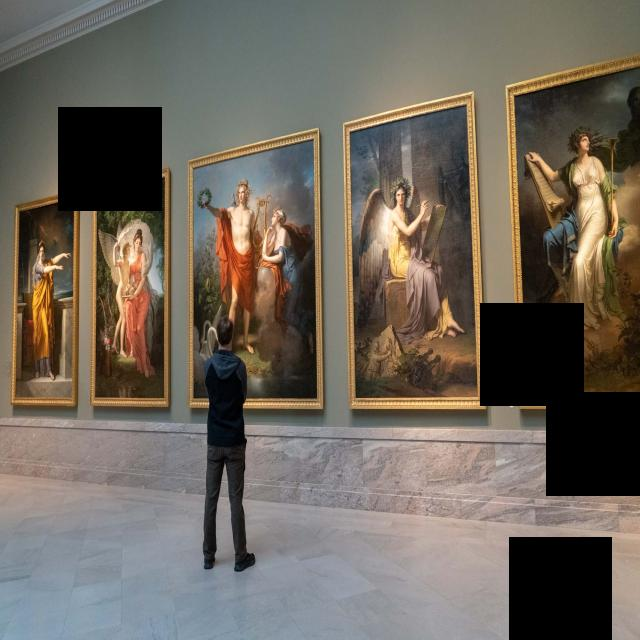Tablo: (513, 63, 640, 399), (349, 103, 479, 399), (192, 137, 318, 400), (95, 175, 166, 400), (15, 196, 74, 399)
